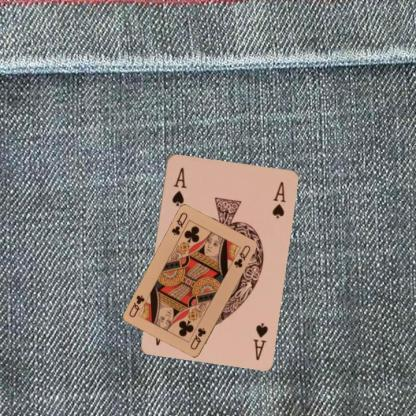As: (168, 164, 186, 208), (250, 320, 268, 361)
Qc: (169, 210, 189, 237), (188, 326, 207, 352)
